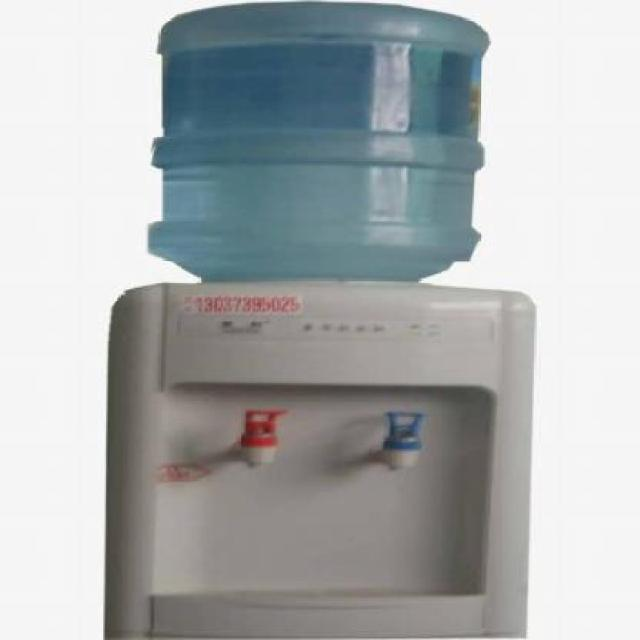cooler: (100, 0, 543, 640)
